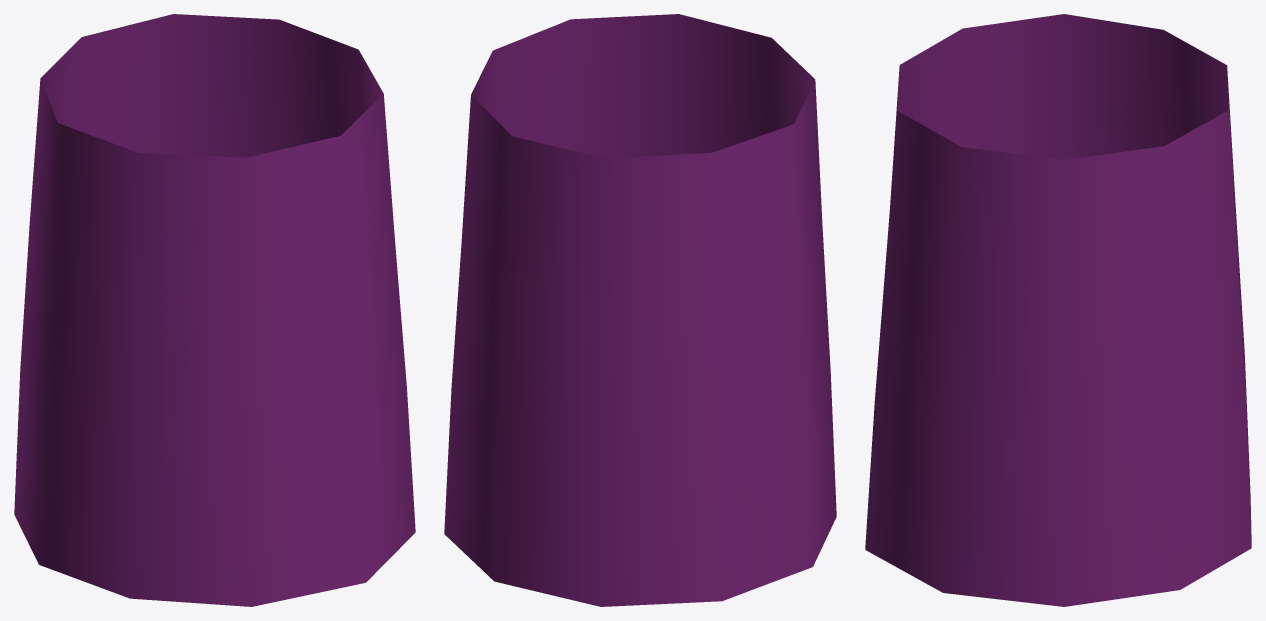
Rendered from nebula_armor_bracer.R.glb.
3 renders of one model, left to right at view 1: azimuth 30°, elevation 25°; view 2: azimuth 150°, elevation 25°; view 3: azimuth 270°, elevation 25°, orthographic.
Parts seen in each view (by area): view 1: nebula_armor_bracer.R; view 2: nebula_armor_bracer.R; view 3: nebula_armor_bracer.R.
Boxes of the visible parts, x1,y1,x2,y2 form: nebula_armor_bracer.R: [14, 14, 415, 606]; nebula_armor_bracer.R: [444, 14, 836, 606]; nebula_armor_bracer.R: [865, 14, 1251, 606].
Size of the model in its own units: 0.1288 by 0.1562 by 0.1259.
